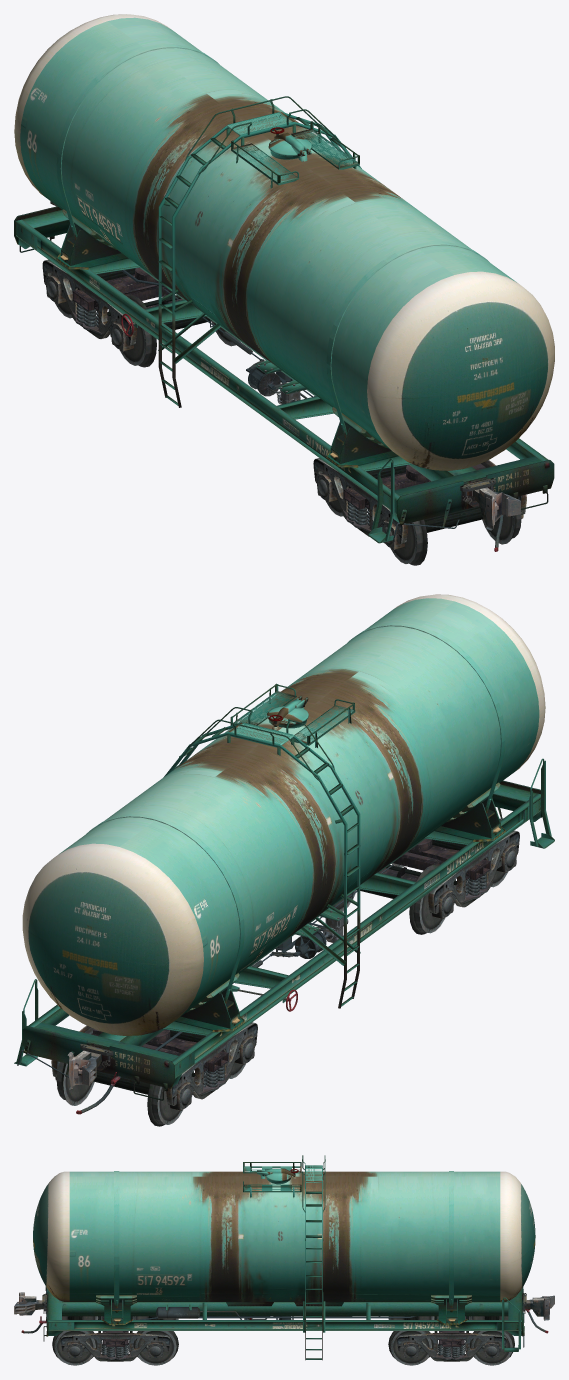
3 views of the same model, one above another, from view 1: azimuth 30°, elevation 25°; view 2: azimuth 150°, elevation 25°; view 3: azimuth 270°, elevation 25° (orthographic). The views are drawn at different scales.
Visible parts, largest first — view 1: Chassis, Part1, bogie_front.001, bogie_front, Part2; view 2: Chassis, Part1, bogie_front, bogie_front.001, Part2; view 3: Chassis, Part1, bogie_front.001, bogie_front, Part2.
Part boxes in pixels (x1,y1,x2,y2): Chassis: (14,14,554,541); Part1: (56,44,503,551); bogie_front.001: (313,458,526,565); bogie_front: (42,259,238,367); Part2: (50,201,520,530); Chassis: (14,594,545,1100); Part1: (16,622,554,1114); bogie_front: (51,1022,257,1126); bogie_front.001: (333,819,519,934); Part2: (67,910,348,1089); Chassis: (33,1159,535,1360); Part1: (21,1155,548,1349); bogie_front.001: (52,1316,178,1365); bogie_front: (388,1316,514,1365); Part2: (14,1292,554,1320).
Size of the model in its own units: 3.18 by 4.72 by 12.41.
8 materials, 8 textured.
